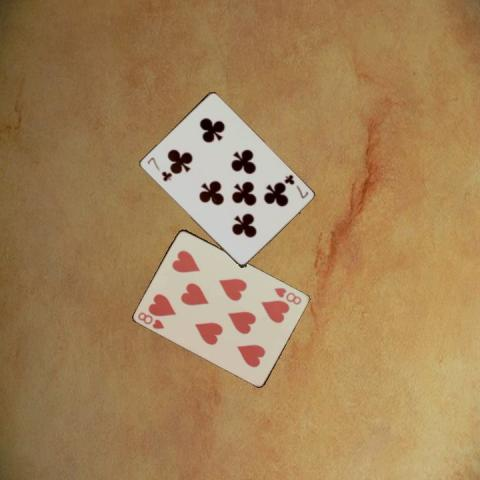7c: (144, 154, 173, 183), (281, 171, 309, 200)
8h: (135, 308, 166, 330), (272, 285, 304, 306)
